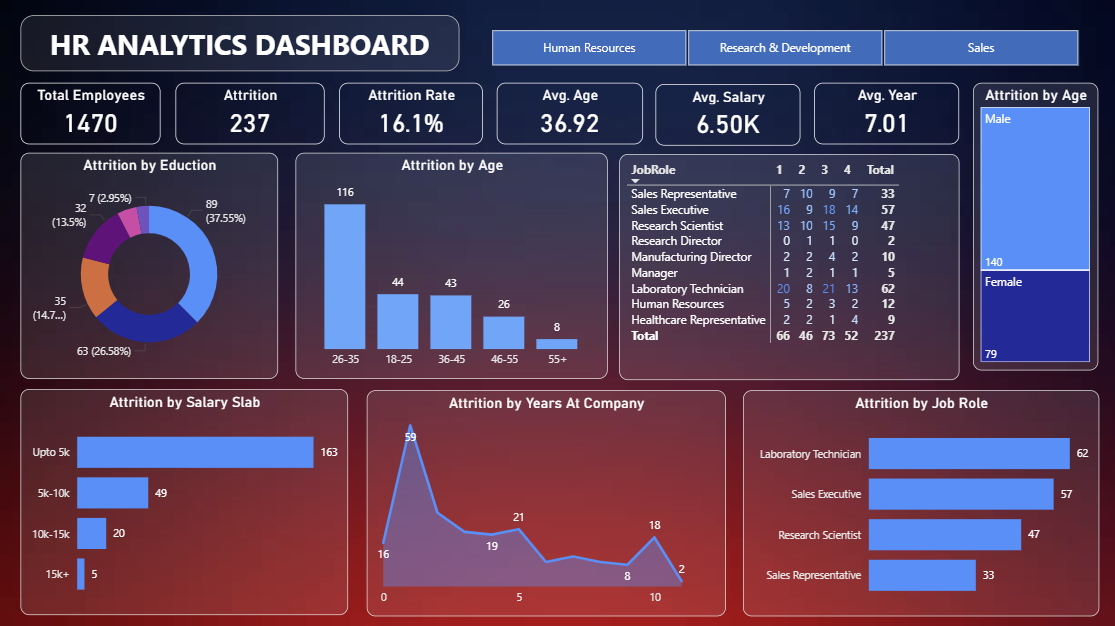

The page's visual inventory and layout, read from the dashboard file:
{"tool":"powerbi","page":{"name":"Page 1","canvas":[1280,720],"ordinal":0},"visuals":[{"type":"card","title":"Total Employees","fields":{"Values":["Sum(HR_Analytics.EmployeeCount)"]},"box":[25.7,95.7,160,70],"z":0},{"type":"card","title":"Attrition","fields":{"Values":["Sum(HR_Analytics.Attrition_count)"]},"box":[202.9,95.7,170,70],"z":1000},{"type":"card","title":"Attrition Rate","fields":{"Values":["HR_Analytics.attritionrate"]},"box":[390,95.7,164.3,70],"z":2000},{"type":"card","title":"Avg. Age","fields":{"Values":["Avg(HR_Analytics.Age)"]},"box":[570,95.7,167.1,70],"z":3000},{"type":"card","title":"Avg. Year","fields":{"Values":["Avg(HR_Analytics.YearsAtCompany)"]},"box":[932.9,95.7,165.7,70],"z":4000},{"type":"card","title":"Avg. Salary","fields":{"Values":["Avg(HR_Analytics.MonthlyIncome)"]},"box":[751,97.1,165.7,70],"z":5000},{"type":"donutChart","title":"Attrition by Eduction","fields":{"Y":["Sum(HR_Analytics.Attrition_count)"],"Category":["HR_Analytics.EducationField"]},"box":[25.7,175.7,294.3,258.6],"z":6000},{"type":"columnChart","title":"Attrition by Age","fields":{"Category":["HR_Analytics.AgeGroup"],"Y":["Sum(HR_Analytics.Attrition_count)"]},"box":[340,175.7,357.1,258.6],"z":7000},{"type":"pivotTable","fields":{"Rows":["HR_Analytics.JobRole"],"Columns":["HR_Analytics.JobSatisfaction"],"Values":["Sum(HR_Analytics.Attrition_count)"]},"box":[710,177.1,388.6,258.6],"z":8000},{"type":"clusteredBarChart","title":"Attrition by Salary Slab","fields":{"Category":["HR_Analytics.SalarySlab"],"Y":["Sum(HR_Analytics.Attrition_count)"]},"box":[25.7,445.7,374.3,258.6],"z":9000},{"type":"clusteredBarChart","title":"Attrition by Job Role","fields":{"Y":["Sum(HR_Analytics.Attrition_count)"],"Category":["HR_Analytics.JobRole"]},"box":[851.4,447.1,407.1,258.6],"z":10000},{"type":"lineChart","title":"Attrition by Years At Company","fields":{"Y":["Sum(HR_Analytics.Attrition_count)"],"Category":["HR_Analytics.YearsAtCompany"]},"box":[421.4,447.1,410,258.6],"z":11000},{"type":"treemap","title":"Attrition by Age","fields":{"Values":["Sum(HR_Analytics.Attrition_count)"],"Group":["HR_Analytics.Gender"]},"box":[1114.3,95.7,142.9,328.6],"z":12000},{"type":"slicer","fields":{"Values":["HR_Analytics.Department"]},"box":[538.6,28.6,720,54.3],"z":13000},{"type":"textbox","box":[25.7,18.6,501.4,64.3],"z":14000}]}

Visuals, with their boxes in screenshot pixels (x1, y1, x2, y2), scaled from the page's 1280x720 canvas onto the 1115x626 screenshot:
"Total Employees" card: [left=22, top=83, right=162, bottom=144]
"Attrition" card: [left=177, top=83, right=325, bottom=144]
"Attrition Rate" card: [left=340, top=83, right=483, bottom=144]
"Avg. Age" card: [left=497, top=83, right=642, bottom=144]
"Avg. Year" card: [left=813, top=83, right=957, bottom=144]
"Avg. Salary" card: [left=654, top=84, right=799, bottom=145]
"Attrition by Eduction" donutChart: [left=22, top=153, right=279, bottom=378]
"Attrition by Age" columnChart: [left=296, top=153, right=607, bottom=378]
pivotTable - HR_Analytics.JobRole x HR_Analytics.JobSatisfaction: [left=618, top=154, right=957, bottom=379]
"Attrition by Salary Slab" clusteredBarChart: [left=22, top=388, right=348, bottom=612]
"Attrition by Job Role" clusteredBarChart: [left=742, top=389, right=1096, bottom=614]
"Attrition by Years At Company" lineChart: [left=367, top=389, right=724, bottom=614]
"Attrition by Age" treemap: [left=971, top=83, right=1095, bottom=369]
slicer - HR_Analytics.Department: [left=469, top=25, right=1096, bottom=72]
textbox: [left=22, top=16, right=459, bottom=72]
